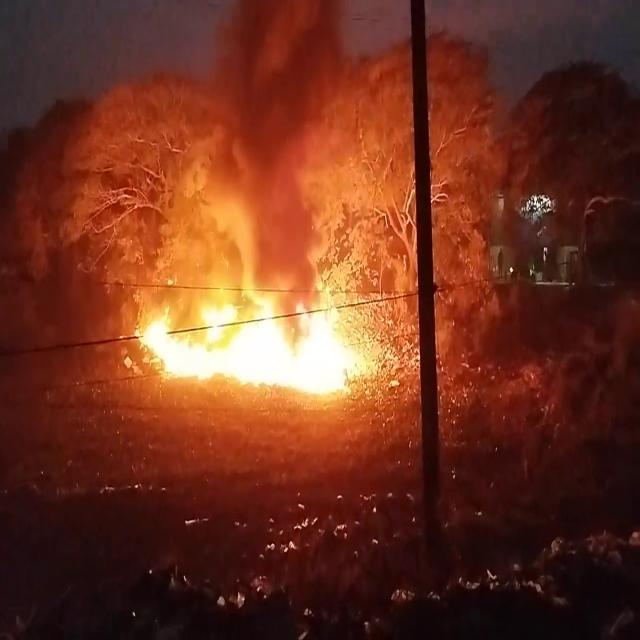Fire: (124, 248, 386, 408)
Smoke: (198, 0, 382, 269)
